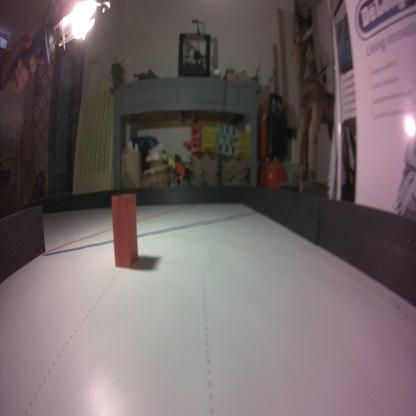red: (110, 190, 140, 269)
